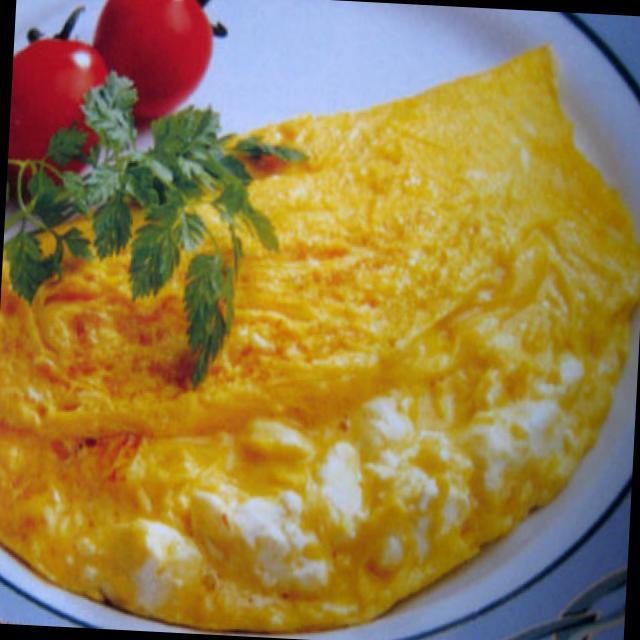Omelet: (0, 24, 640, 633)
